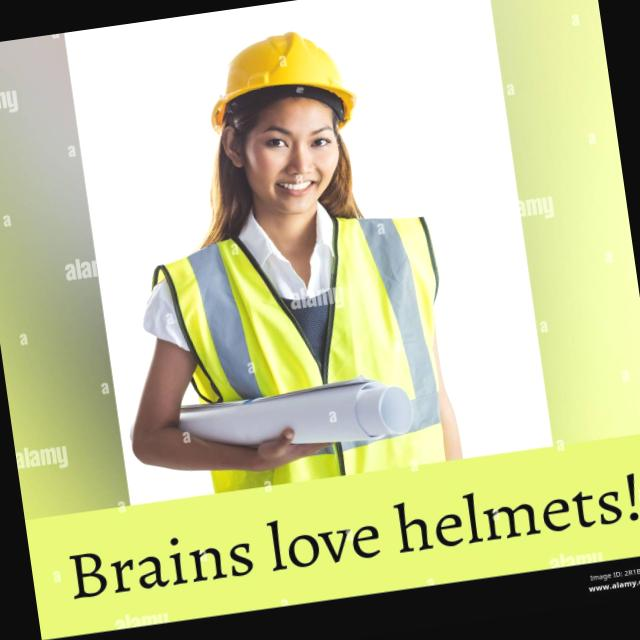helmet: (202, 22, 361, 144)
no-goggles: (241, 104, 357, 167)
vest: (139, 203, 468, 504)
